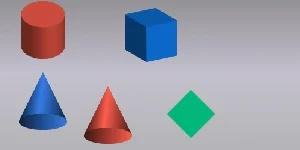圆柱体: (19, 1, 67, 60)
圆锥体: (82, 84, 133, 146), (17, 70, 67, 131)
正方体: (123, 7, 179, 63)
菱形: (167, 90, 215, 139)
